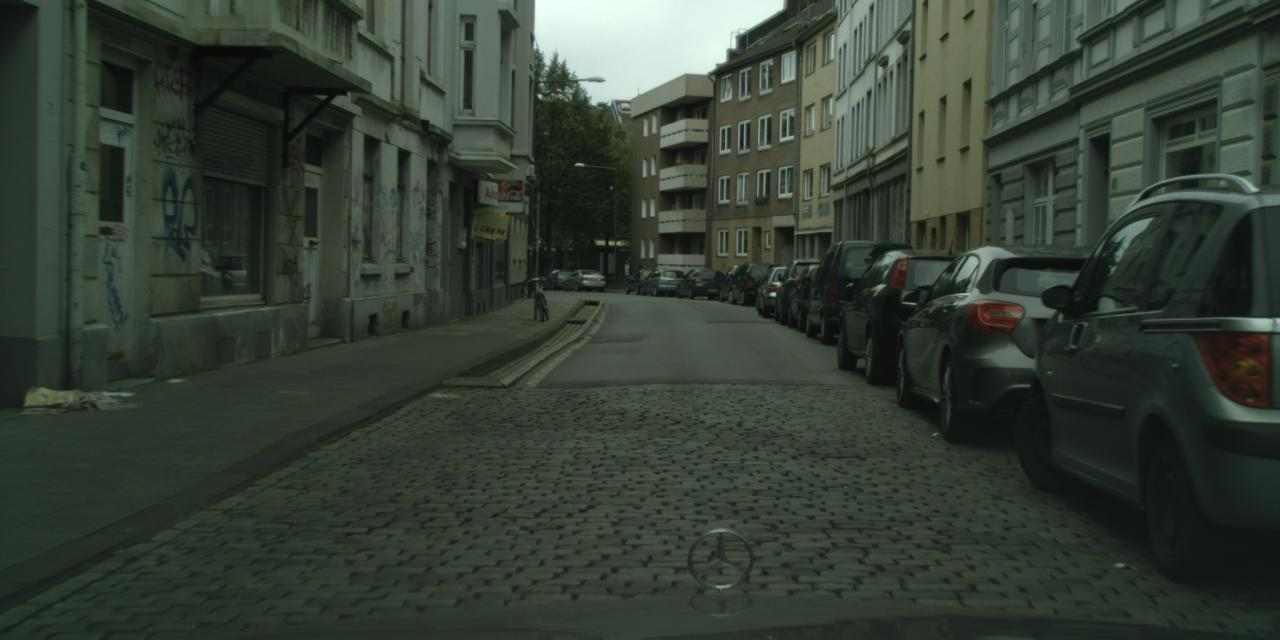ped: (621, 259, 632, 287), (641, 263, 651, 288), (635, 264, 644, 288), (622, 259, 630, 279)
